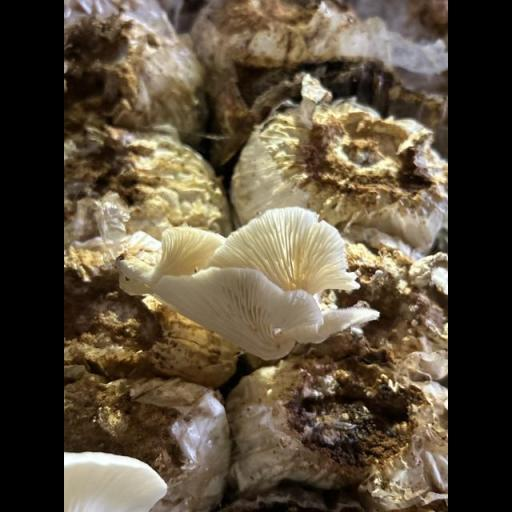White Oyster Mushroom: (110, 199, 387, 368)
